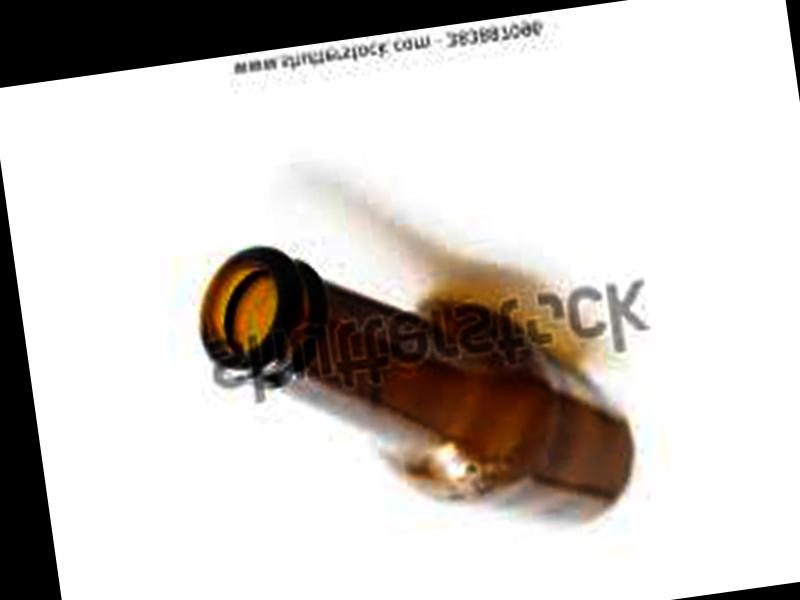Beer: (188, 196, 643, 570)
